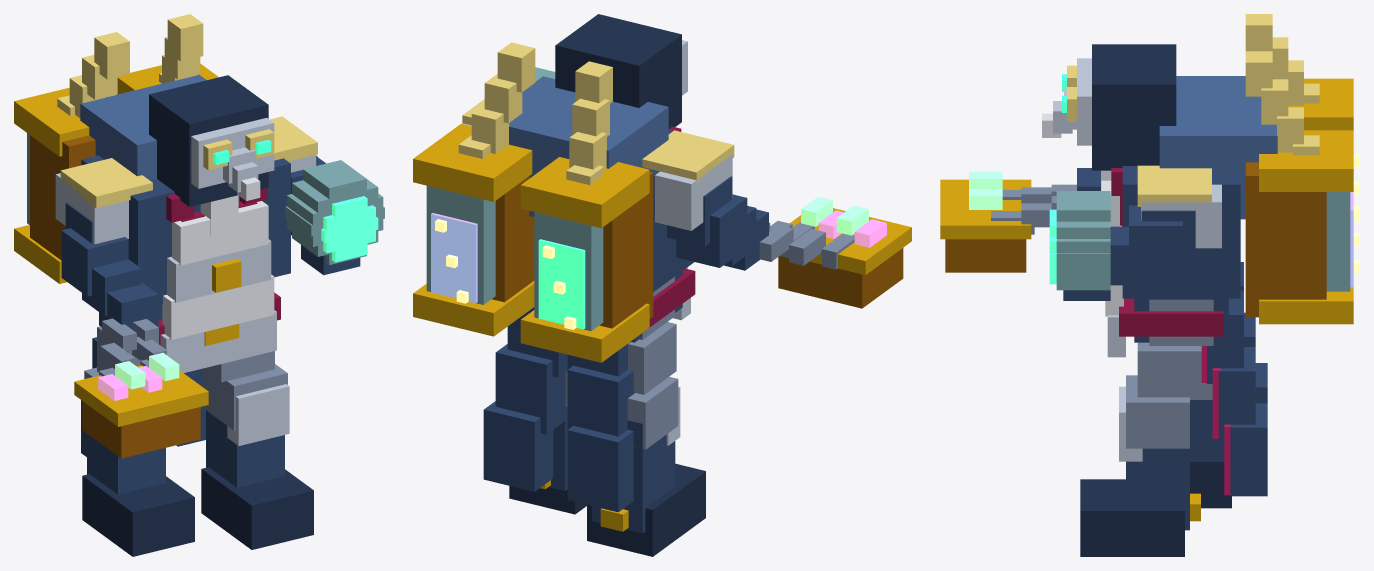
Rendered from syndicate-mint-chemist.glb.
3 renders of one model, left to right at view 1: azimuth 30°, elevation 25°; view 2: azimuth 150°, elevation 25°; view 3: azimuth 270°, elevation 25°, orthographic. The views are drawn at different scales.
Parts seen in each view (by area): view 1: Boots, AcidApron, Hood, Sleeves, Vest, BrassPipes, Glass, StillCaps, HunchedBack, Epaulettes, StillFrame, Trousers (+14 smaller); view 2: Coattails, StillCaps, Boots, StillFrame, BrassPipes, Hood, HunchedBack, Glass, Core, Sleeves, Trousers, Crucible (+8 smaller); view 3: Boots, Hood, StillCaps, StillFrame, HunchedBack, Trousers, Coattails, Glass, Sleeves, BrassPipes, Vest, CrucibleLip (+13 smaller).
Boxes of the visible parts, bbox=[...] form: Boots: bbox=[82, 410, 313, 556]; AcidApron: bbox=[160, 201, 276, 372]; Hood: bbox=[149, 75, 268, 206]; Sleeves: bbox=[61, 155, 360, 329]; Vest: bbox=[81, 155, 290, 305]; BrassPipes: bbox=[57, 14, 203, 117]; Glass: bbox=[27, 133, 384, 265]; StillCaps: bbox=[14, 63, 218, 283]; HunchedBack: bbox=[80, 74, 206, 180]; Epaulettes: bbox=[60, 116, 317, 208]; StillFrame: bbox=[30, 135, 95, 260]; Trousers: bbox=[84, 326, 287, 430]; Coattails: bbox=[483, 307, 634, 512]; StillCaps: bbox=[413, 123, 649, 362]; Boots: bbox=[509, 406, 705, 556]; StillFrame: bbox=[492, 171, 653, 328]; BrassPipes: bbox=[458, 42, 612, 184]; Hood: bbox=[555, 14, 681, 128]; HunchedBack: bbox=[509, 76, 668, 216]; Glass: bbox=[426, 67, 603, 331]; Core: bbox=[431, 213, 585, 329]; Sleeves: bbox=[667, 176, 768, 270]; Trousers: bbox=[565, 276, 678, 449]; Crucible: bbox=[778, 248, 903, 308]; Boots: bbox=[1080, 400, 1231, 556]; Hood: bbox=[1092, 44, 1176, 170]; StillCaps: bbox=[1259, 78, 1353, 324]; StillFrame: bbox=[1245, 162, 1326, 317]; HunchedBack: bbox=[1159, 76, 1277, 219]; Trousers: bbox=[1126, 299, 1213, 448]; Coattails: bbox=[1207, 262, 1267, 496]; Glass: bbox=[1056, 191, 1350, 291]; Sleeves: bbox=[1063, 168, 1195, 300]; BrassPipes: bbox=[1245, 14, 1319, 155]; Vest: bbox=[1122, 166, 1240, 298]; CrucibleLip: bbox=[940, 179, 1031, 239].
Size of the model in its own units: 1.25 by 1.7 by 1.35.
